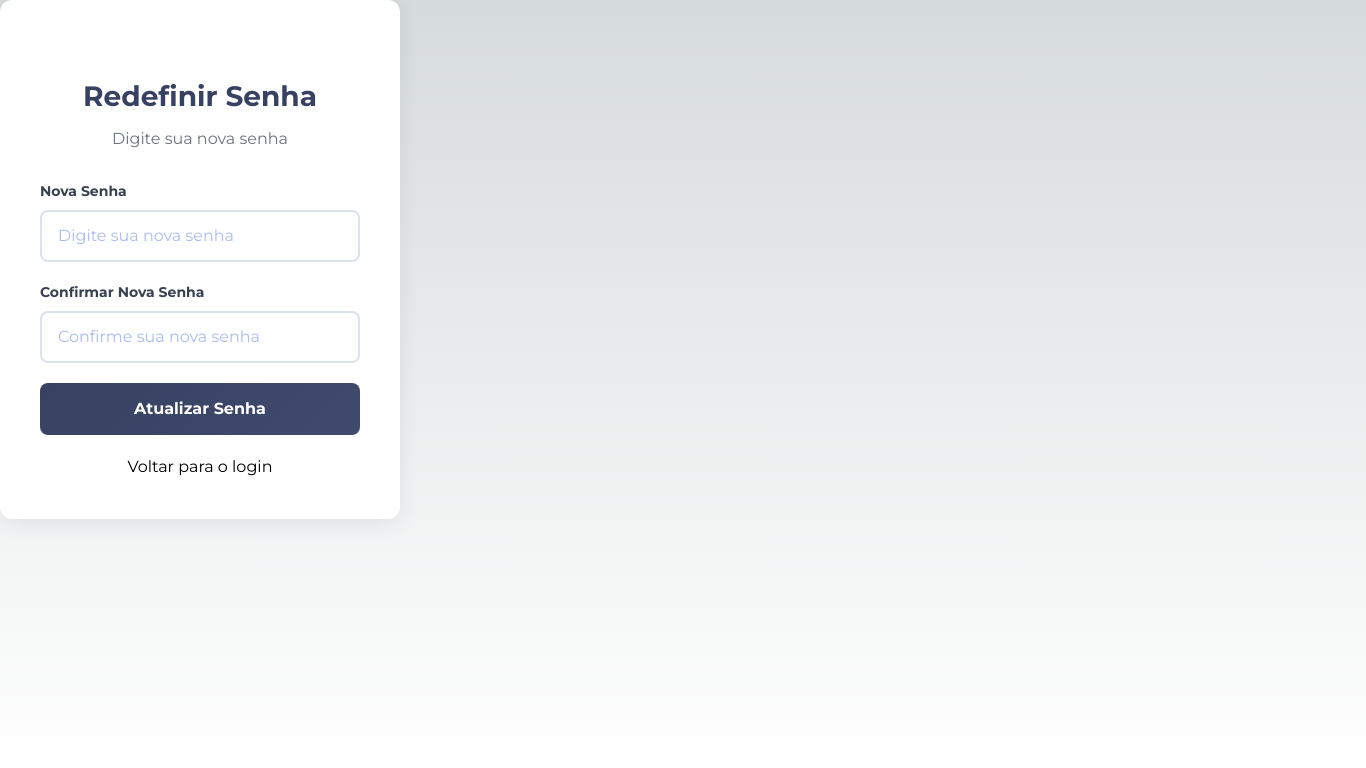
ResetPasswordPage › deve atualizar senha com sucesso
The image size is (1366, 768).
Type "newpassword123" into the password field labelled "Nova Senha" at point(200, 236), box [40,210,360,262]
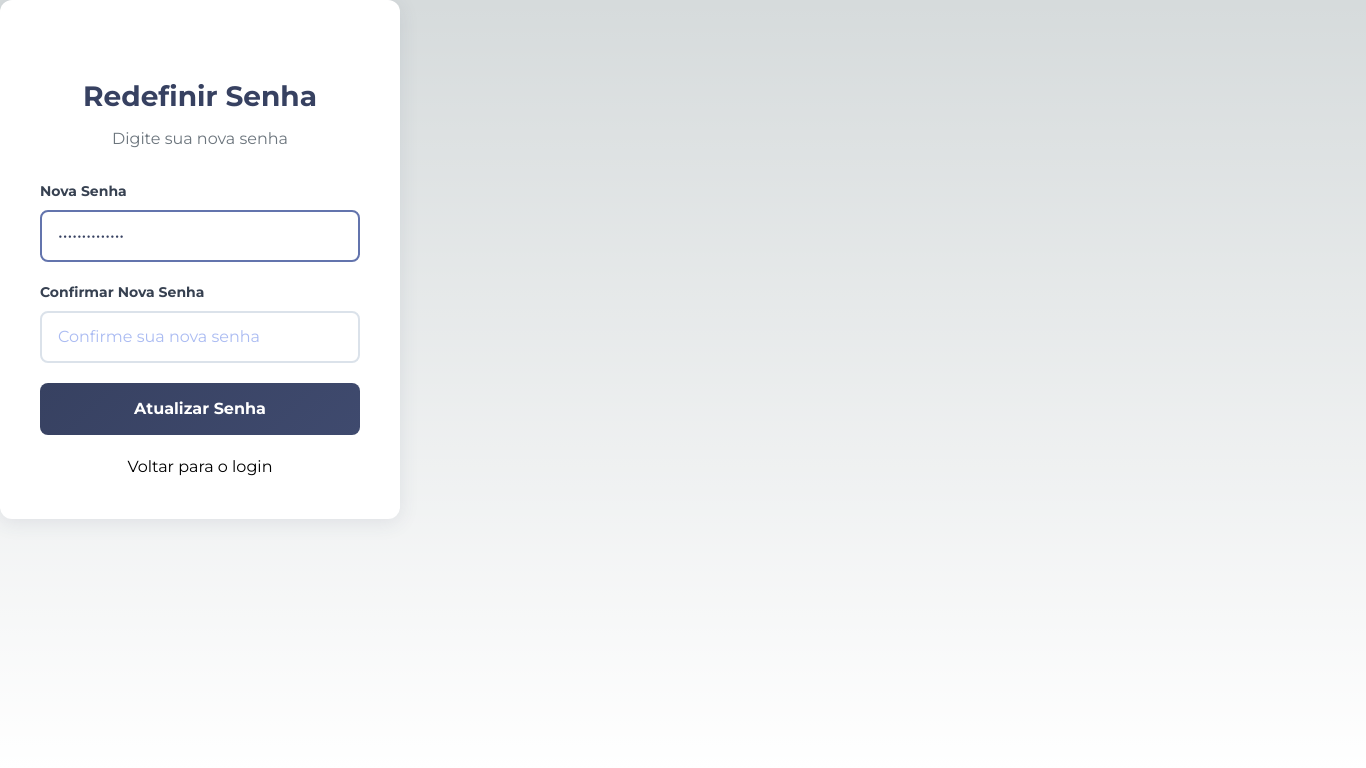
Type "newpassword123" into the password field labelled "Confirmar Nova Senha" at point(200, 337), box [40,311,360,363]
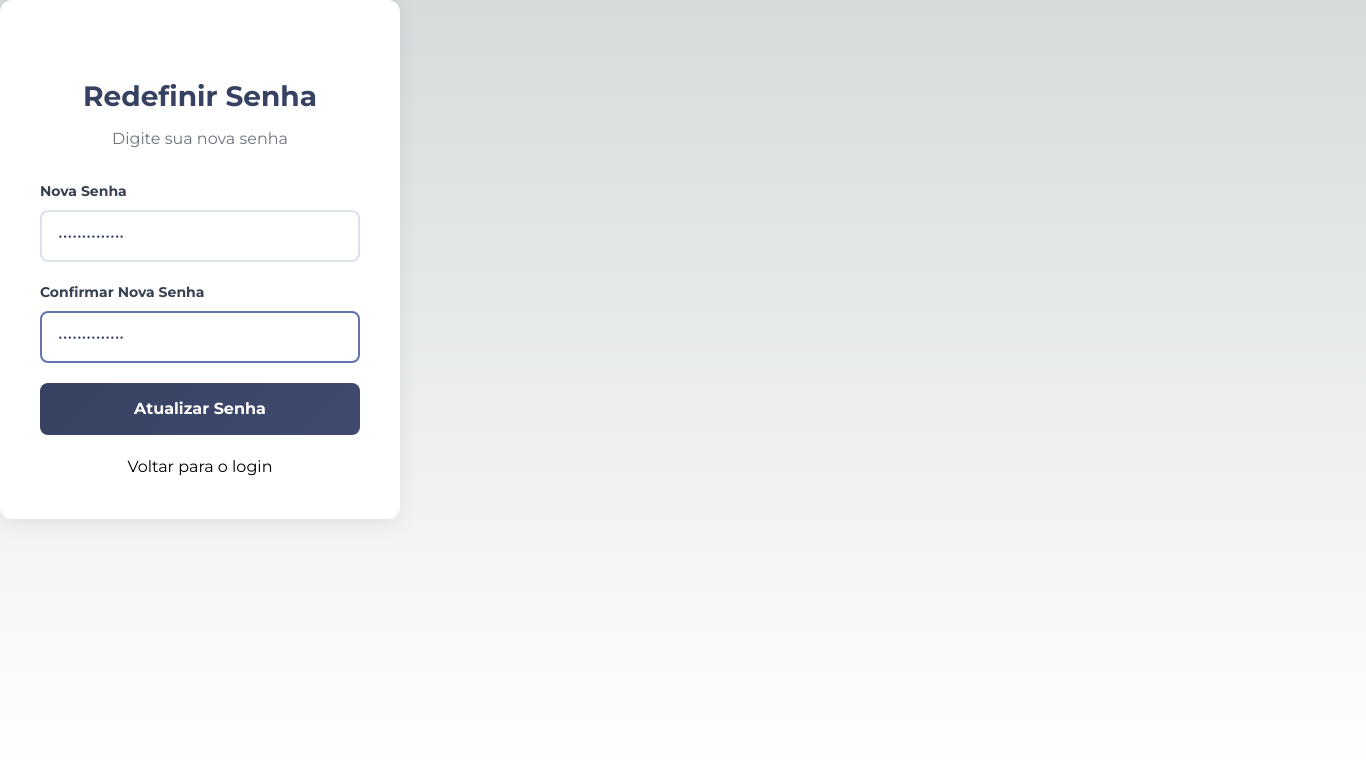
Click the button "Atualizar Senha" at point(200, 409), box [40,383,360,435]
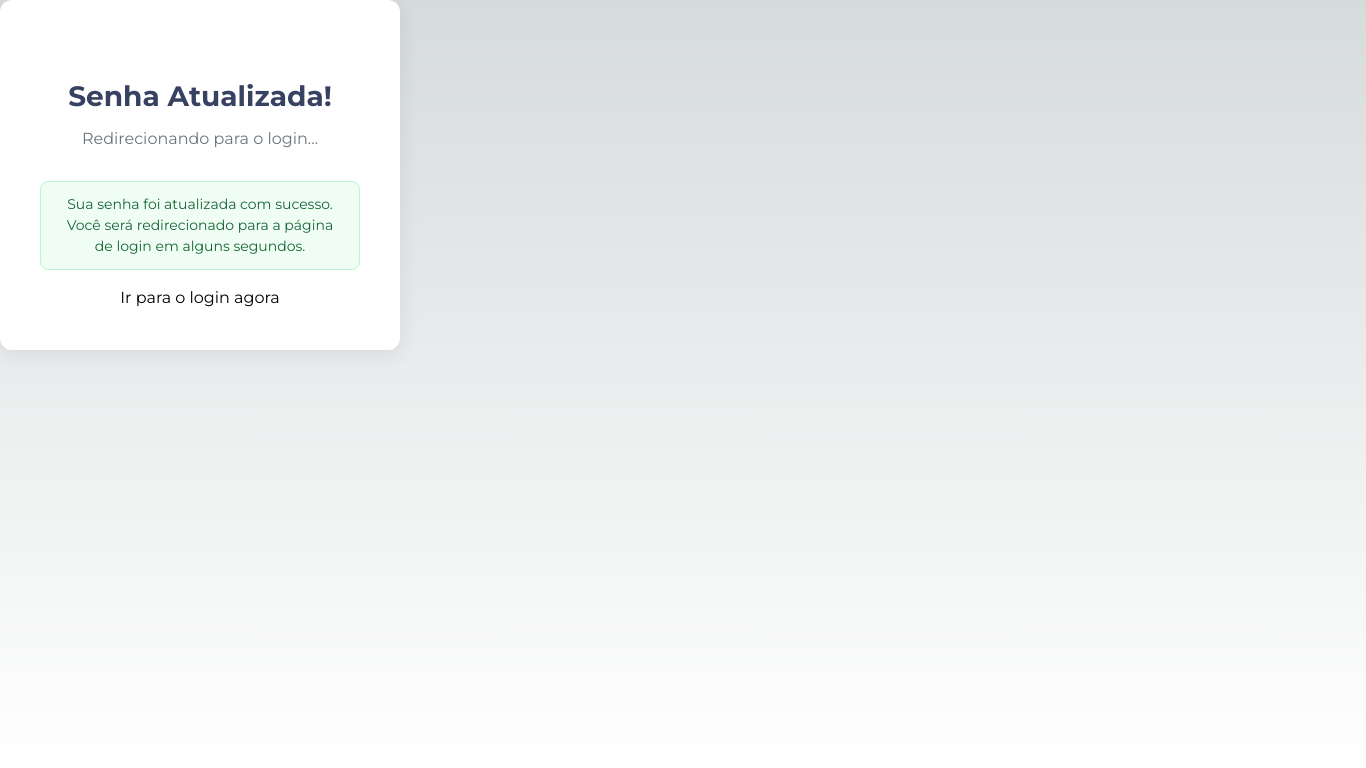
expect the heading "Senha Atualizada!" is shown: met, box [68,79,332,113]
expect the text "Redirecionando para o login..." is shown: met, box [82,129,318,148]
